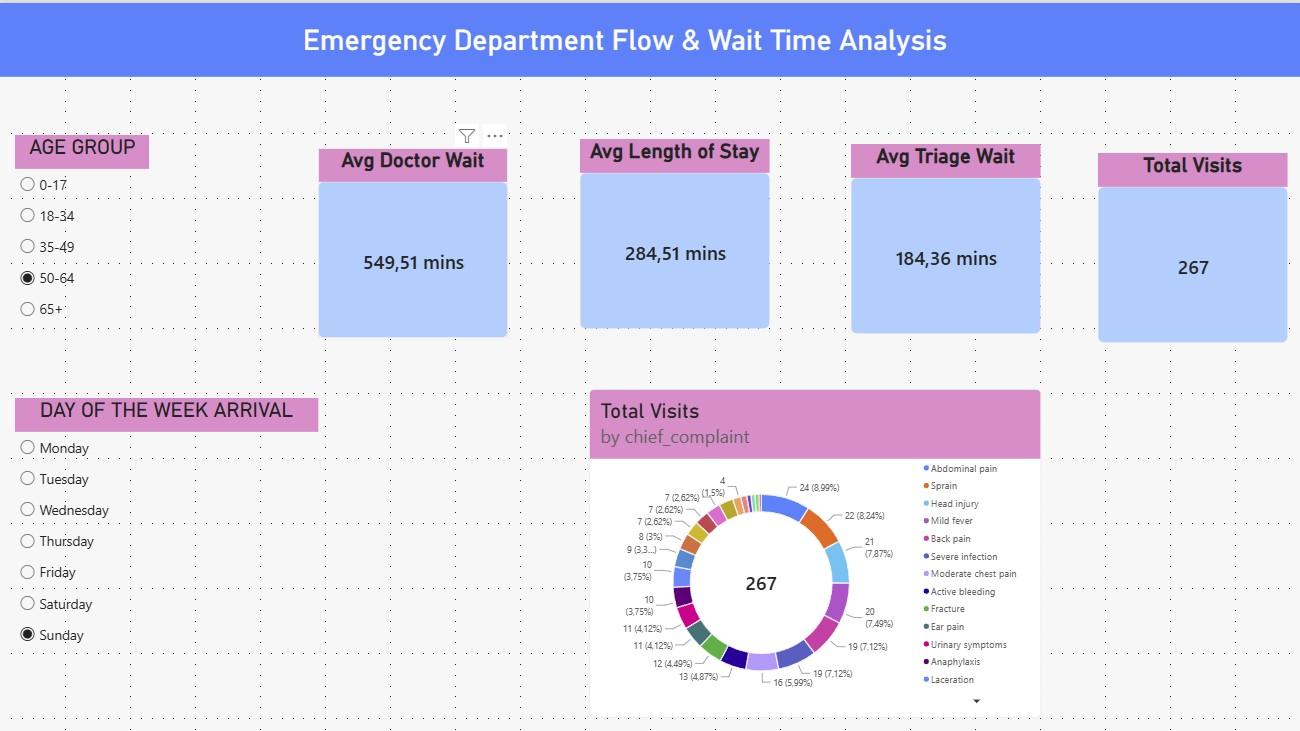

The dashboard page shown, as its layout file describes it:
{"tool":"powerbi","page":{"name":"Page 1","canvas":[1920,1080],"ordinal":0},"visuals":[{"type":"cardVisual","title":"Avg Doctor Wait","fields":{"Data":["cleaned_clinical_data.Avg Doctor Wait (Min)"]},"box":[469.7,214.2,280,280],"z":0},{"type":"cardVisual","title":"Avg Length of Stay","fields":{"Data":["cleaned_clinical_data.Avg Length of Stay"]},"box":[856.6,200.9,280,280],"z":1000},{"type":"cardVisual","title":"Avg Triage Wait","fields":{"Data":["cleaned_clinical_data.Avg Triage Wait (Min)"]},"box":[1256.9,208.2,280,280],"z":2000},{"type":"cardVisual","title":"Total Visits","fields":{"Data":["cleaned_clinical_data.Total Visits"]},"box":[1621.7,221.5,280,280],"z":3000},{"type":"donutChart","fields":{"Category":["cleaned_clinical_data.chief_complaint"],"Y":["cleaned_clinical_data.Total Visits"]},"box":[869.9,570.1,667.6,485.9],"z":4000},{"type":"slicer","title":"AGE GROUP","fields":{"Values":["cleaned_clinical_data.age_group"]},"box":[22.2,195,197.9,293.9],"z":5000},{"type":"slicer","title":"DAY OF THE WEEK ARRIVAL","fields":{"Values":["cleaned_clinical_data.arrival_dayofweek"]},"box":[22.2,583.4,447.5,496.2],"z":6000},{"type":"shape","box":[0,0,1920,109.3],"z":7000,"group":"g1"},{"type":"textbox","box":[1770,201,150,294],"z":8000},{"type":"textbox","box":[1770,201,150,294],"z":8001},{"type":"textbox","box":[1770,201,150,294],"z":8002},{"type":"textbox","box":[1770,201,150,294],"z":8003},{"type":"textbox","box":[1770,201,150,294],"z":8004},{"type":"textbox","title":"Emergency Department Flow & Wait Time Analysis","box":[447.5,31,1397.2,57.6],"z":8005,"group":"g1"},{"type":"group","id":"g1","title":"Group 1","box":[0,0,1920,109.3],"z":8006}]}

Visuals, with their boxes in screenshot pixels (x1, y1, x2, y2), scaled from the page's 1920x1080 canvas onto the 1300x731 screenshot:
"Avg Doctor Wait" cardVisual: bbox=[318, 145, 508, 335]
"Avg Length of Stay" cardVisual: bbox=[580, 136, 770, 325]
"Avg Triage Wait" cardVisual: bbox=[851, 141, 1041, 330]
"Total Visits" cardVisual: bbox=[1098, 150, 1288, 339]
donutChart - cleaned_clinical_data.chief_complaint x cleaned_clinical_data.Total Visits: bbox=[589, 386, 1041, 715]
"AGE GROUP" slicer: bbox=[15, 132, 149, 331]
"DAY OF THE WEEK ARRIVAL" slicer: bbox=[15, 395, 318, 730]
shape: bbox=[0, 0, 1299, 74]
textbox: bbox=[1198, 136, 1299, 335]
textbox: bbox=[1198, 136, 1299, 335]
textbox: bbox=[1198, 136, 1299, 335]
textbox: bbox=[1198, 136, 1299, 335]
textbox: bbox=[1198, 136, 1299, 335]
"Emergency Department Flow & Wait Time Analysis" textbox: bbox=[303, 21, 1249, 60]
"Group 1" group: bbox=[0, 0, 1299, 74]
